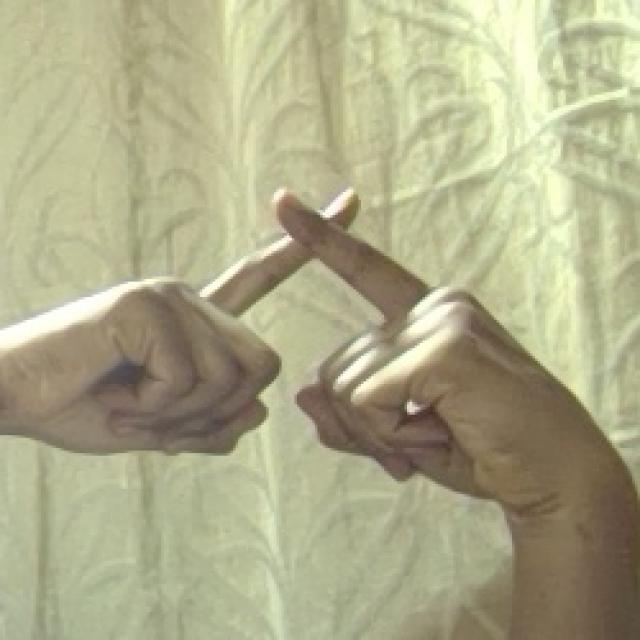Alphabet-X: (45, 172, 555, 515)
